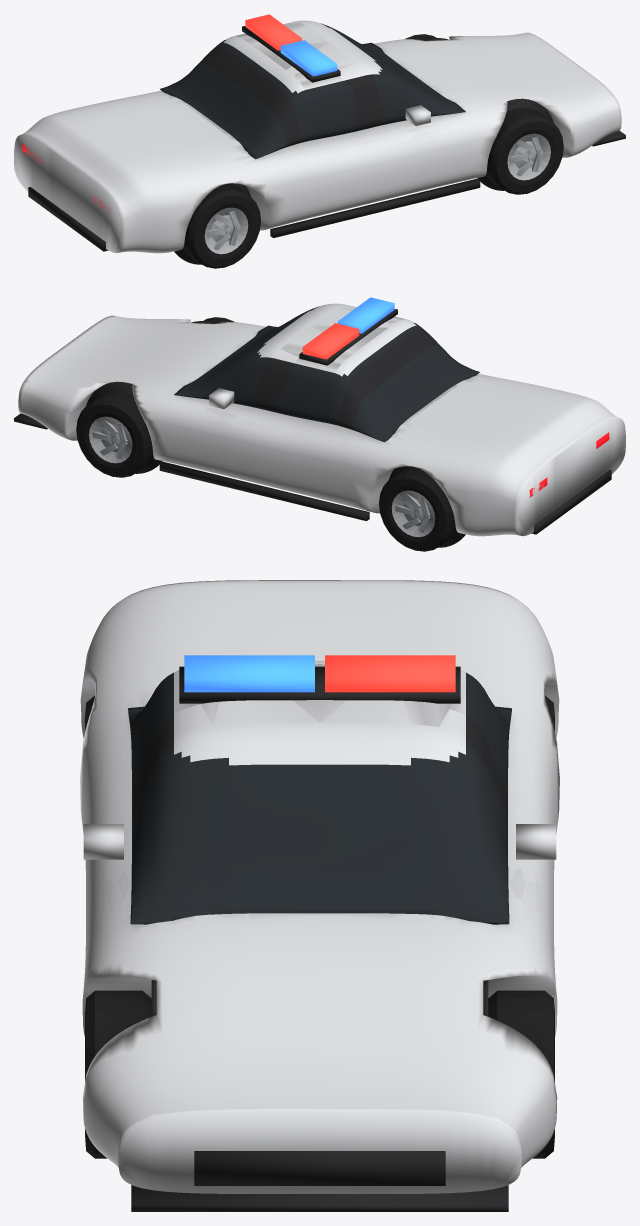
The model's file is pace_car_lod1.glb.
3 views of the same model, one above another, from view 1: azimuth 30°, elevation 25°; view 2: azimuth 150°, elevation 25°; view 3: azimuth 270°, elevation 25° (orthographic). The views are drawn at different scales.
Parts seen in each view (by area): view 1: Body, Tire_FR, Tire_RR; view 2: Body, Tire_FL, Tire_RL; view 3: Body, Tire_FL, Tire_FR.
Part boxes in pixels (left/top/right/bottom): Body: left=14, top=14, right=625, bottom=264; Tire_FR: left=485, top=107, right=563, bottom=194; Tire_RR: left=182, top=183, right=260, bottom=268; Body: left=14, top=297, right=625, bottom=547; Tire_FL: left=76, top=390, right=154, bottom=477; Tire_RL: left=379, top=466, right=457, bottom=551; Body: left=80, top=580, right=559, bottom=1211; Tire_FL: left=488, top=990, right=554, bottom=1158; Tire_FR: left=85, top=990, right=151, bottom=1158.
Bounding box in the file's own units: 4.71 × 1.41 × 1.91.
